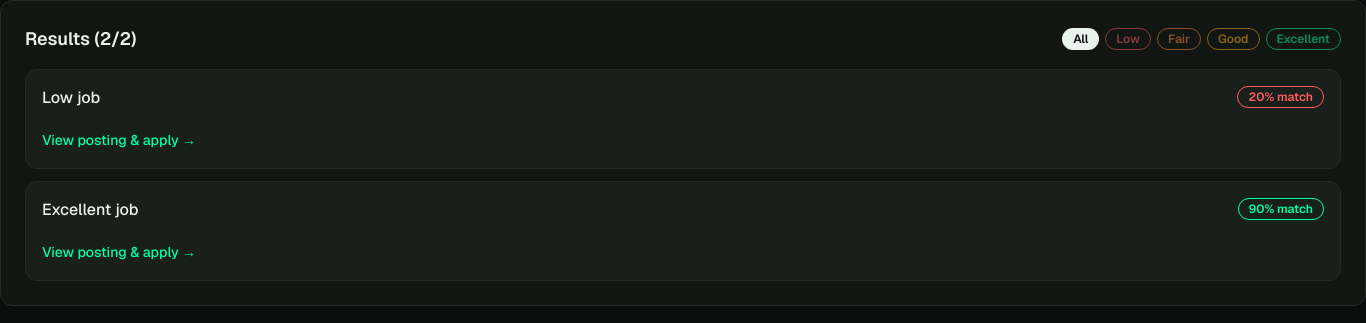
Test case: ResultsPanel › filters revealed results by score tier
The image size is (1366, 323).
Expected: the text "Low job" is shown, [42, 87, 100, 108]
Expected: the text "Excellent job" is shown, [42, 199, 138, 220]
Click the button "Excellent" at (1303, 39), box [1266, 28, 1341, 50]
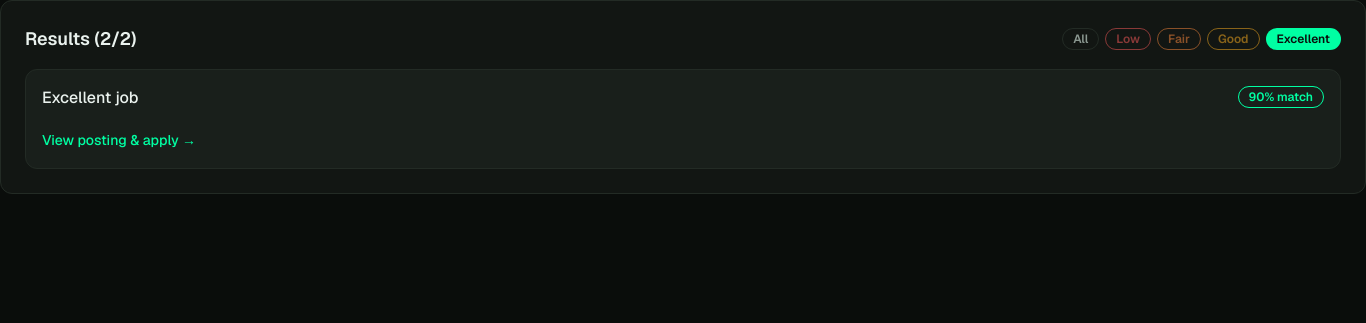
Expected: the text "Excellent job" is shown, [42, 87, 138, 108]
Expected: the text "Low job" is gone
